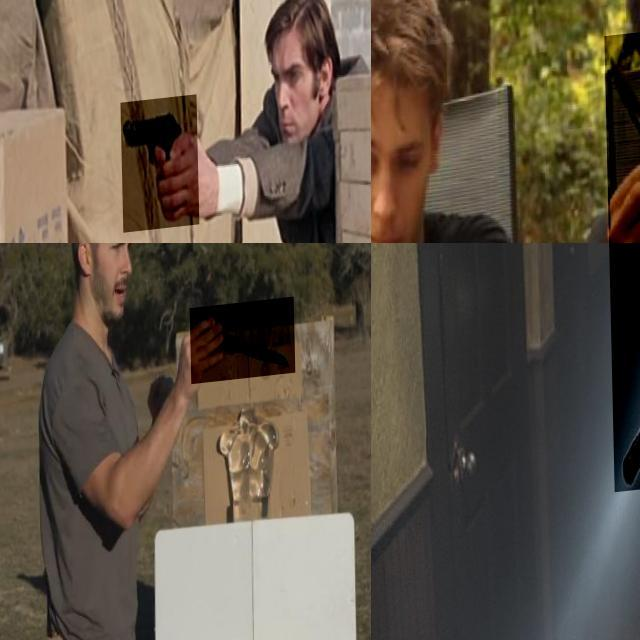-: (189, 308, 294, 392), (603, 35, 640, 243)
gun-knife-thesis - v11 Yolov5 augmented: (119, 102, 197, 238)
